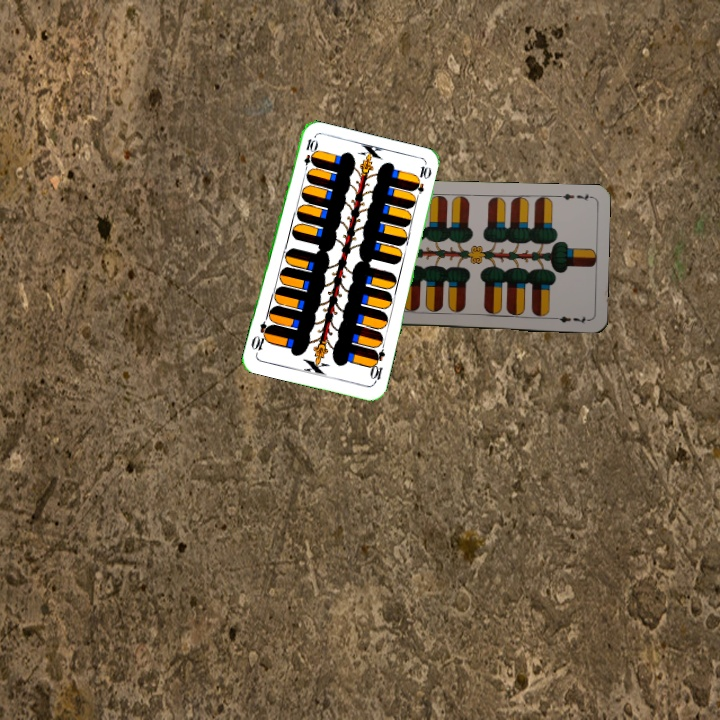E10: (366, 346, 388, 386), (300, 135, 318, 175)
E7: (554, 189, 594, 203)
